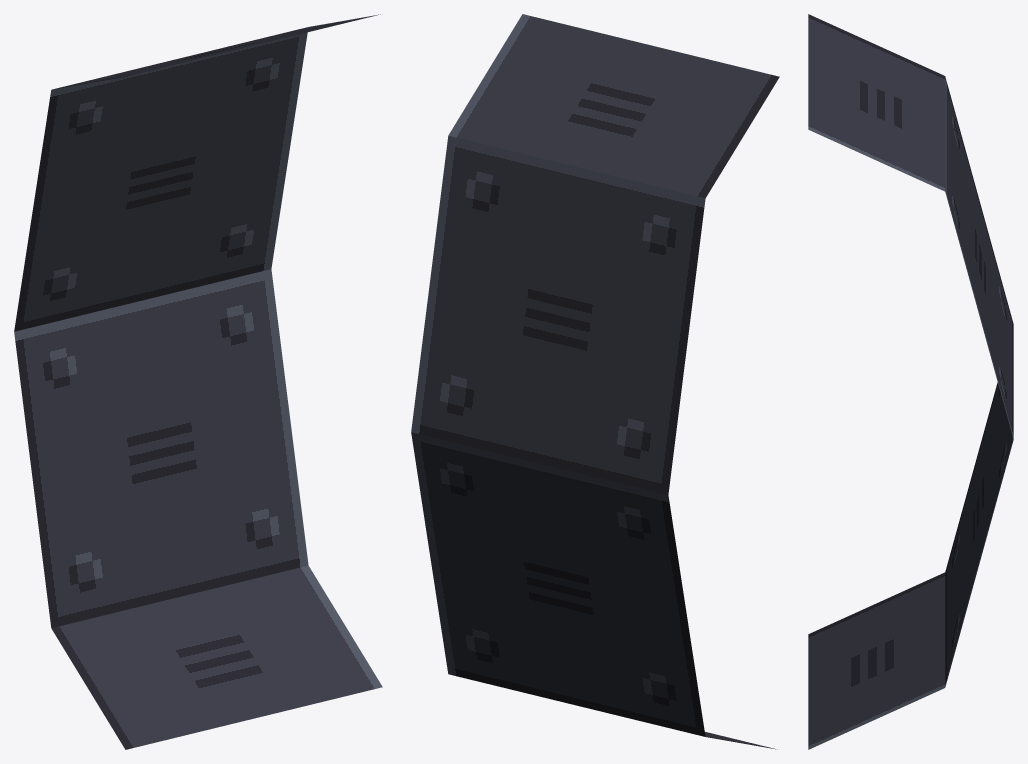
Rendered from corridor_default.glb.
3 renders of one model, left to right at view 1: azimuth 30°, elevation 25°; view 2: azimuth 150°, elevation 25°; view 3: azimuth 270°, elevation 25°, orthographic. The views are drawn at different scales.
Parts seen in each view (by area): view 1: Plane; view 2: Plane; view 3: Plane.
Part boxes in pixels (left/top/right/bottom): Plane: left=14, top=14, right=382, bottom=749; Plane: left=411, top=14, right=779, bottom=749; Plane: left=808, top=14, right=1013, bottom=749.
Size of the model in its own units: 2 by 5 by 1.5.
1 material, 1 textured.
